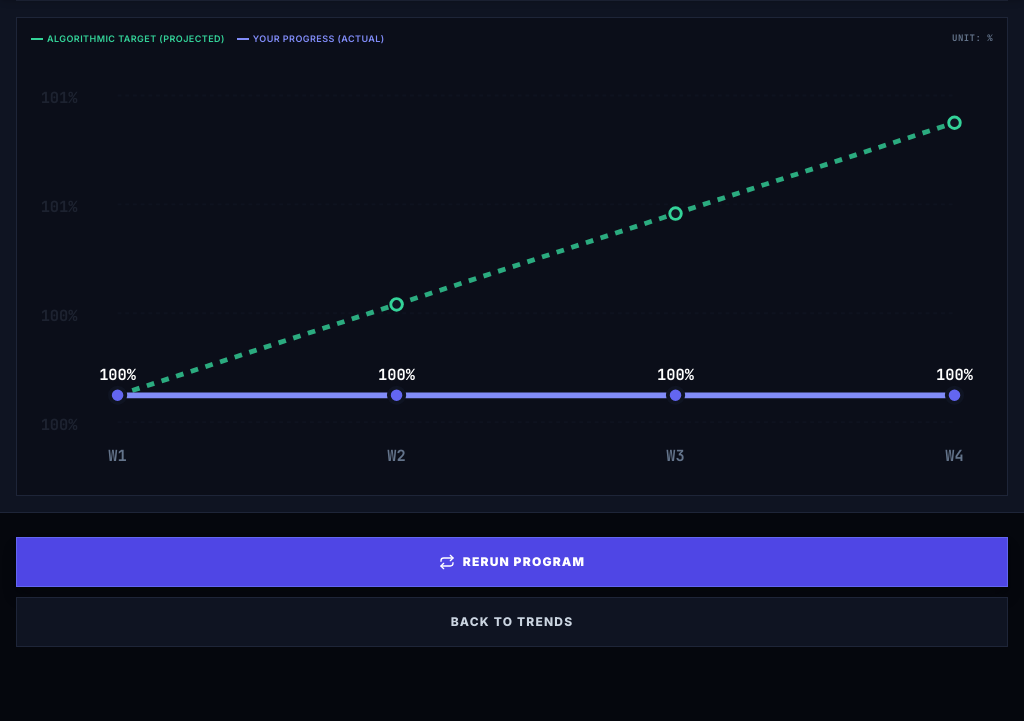
Test: RPC-2B: Program Report Card Rerun Action Suite › executes atomic rerun transaction, creates linked Cycle 2, updates currentProgramId, and navigates to home
This screenshot has width=1024, height=721.
(page scrolled)
Click the button "Rerun Program". click: (512,562)
box: [16, 536, 1008, 586]
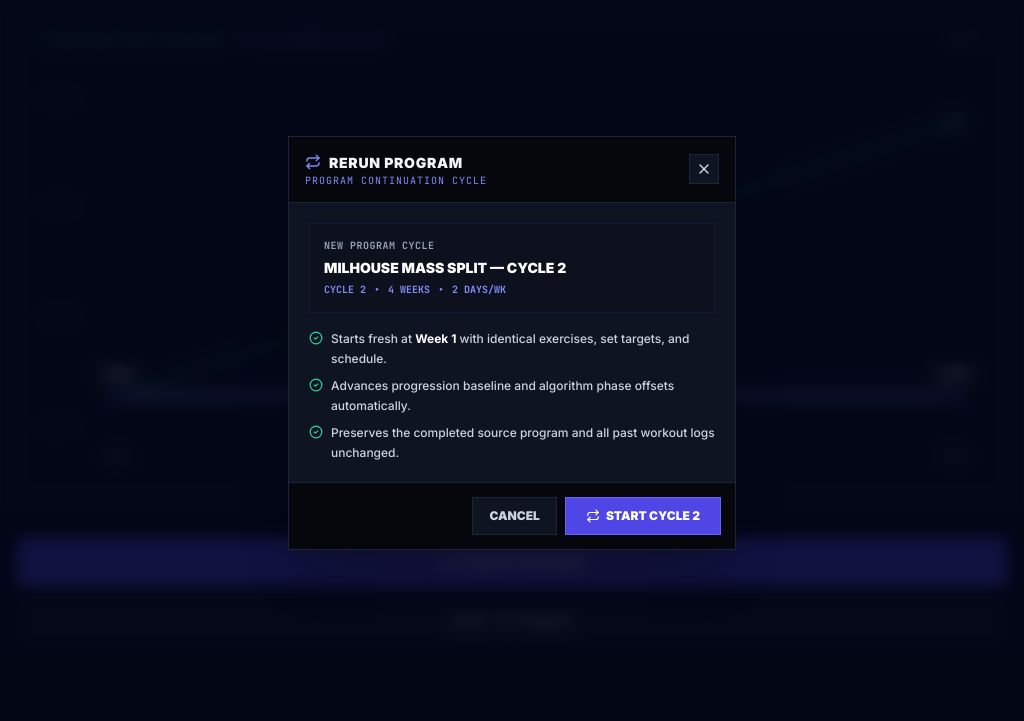
Click the button "START CYCLE 2". click: (643,516)
box: [565, 497, 721, 535]
(page scrolled)
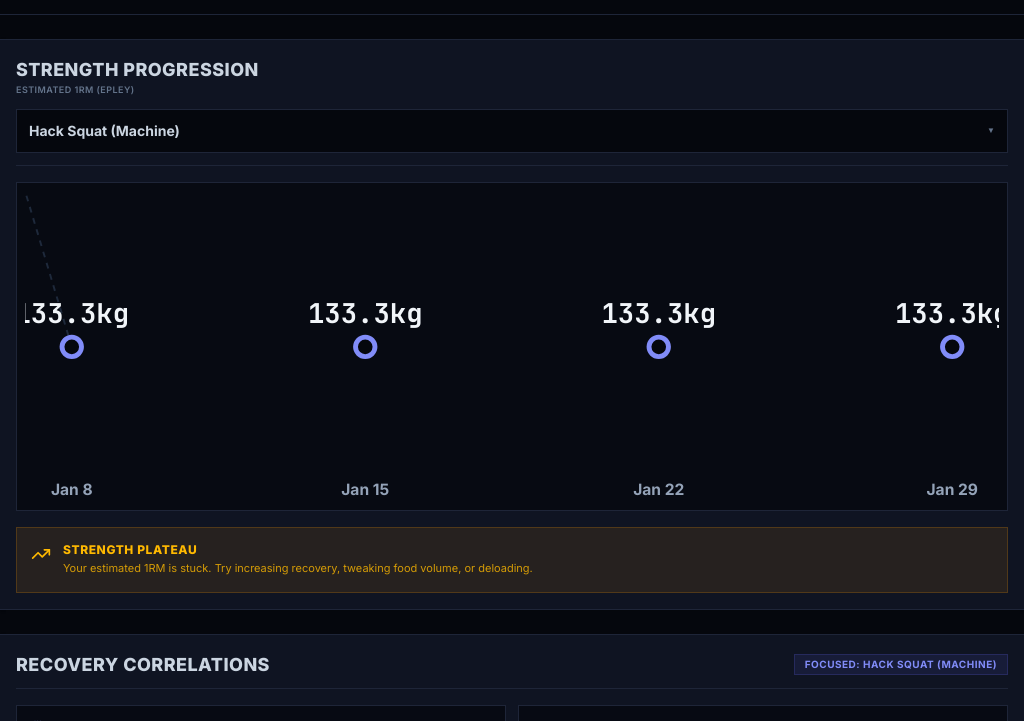
Expected: the text "Hack Squat (Machine)" is shown, [29, 120, 180, 140]
